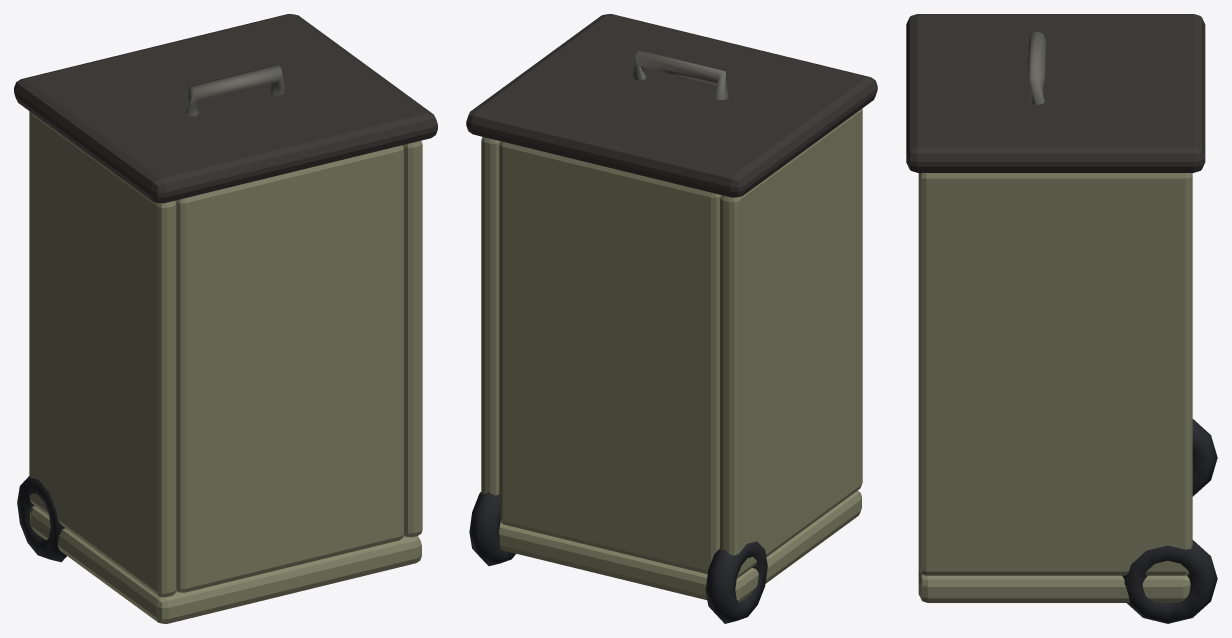
File: MS_SP_13_OutdoorBin.glb
3 views of the same model, side by side, from view 1: azimuth 30°, elevation 25°; view 2: azimuth 150°, elevation 25°; view 3: azimuth 270°, elevation 25° (orthographic). The views are drawn at different scales.
Visible parts, largest first — view 1: Bottom.002, Lid, BinWheel, LidHandle; view 2: Bottom.002, Lid, BinWheel, LidHandle; view 3: Bottom.002, Lid, BinWheel, LidHandle.
Part boxes in pixels (box(x1,y1,x2,y2)): Bottom.002: box(29, 111, 422, 623); Lid: box(14, 14, 437, 203); BinWheel: box(17, 476, 66, 562); LidHandle: box(185, 65, 284, 116); Bottom.002: box(481, 108, 862, 602); Lid: box(466, 14, 877, 197); BinWheel: box(469, 492, 767, 623); LidHandle: box(632, 50, 728, 99); Bottom.002: box(918, 173, 1192, 602); Lid: box(906, 14, 1205, 172); BinWheel: box(1122, 419, 1217, 623); LidHandle: box(1028, 31, 1045, 104).
Bounding box in the file's own units: 0.54 × 0.9036 × 0.5.
